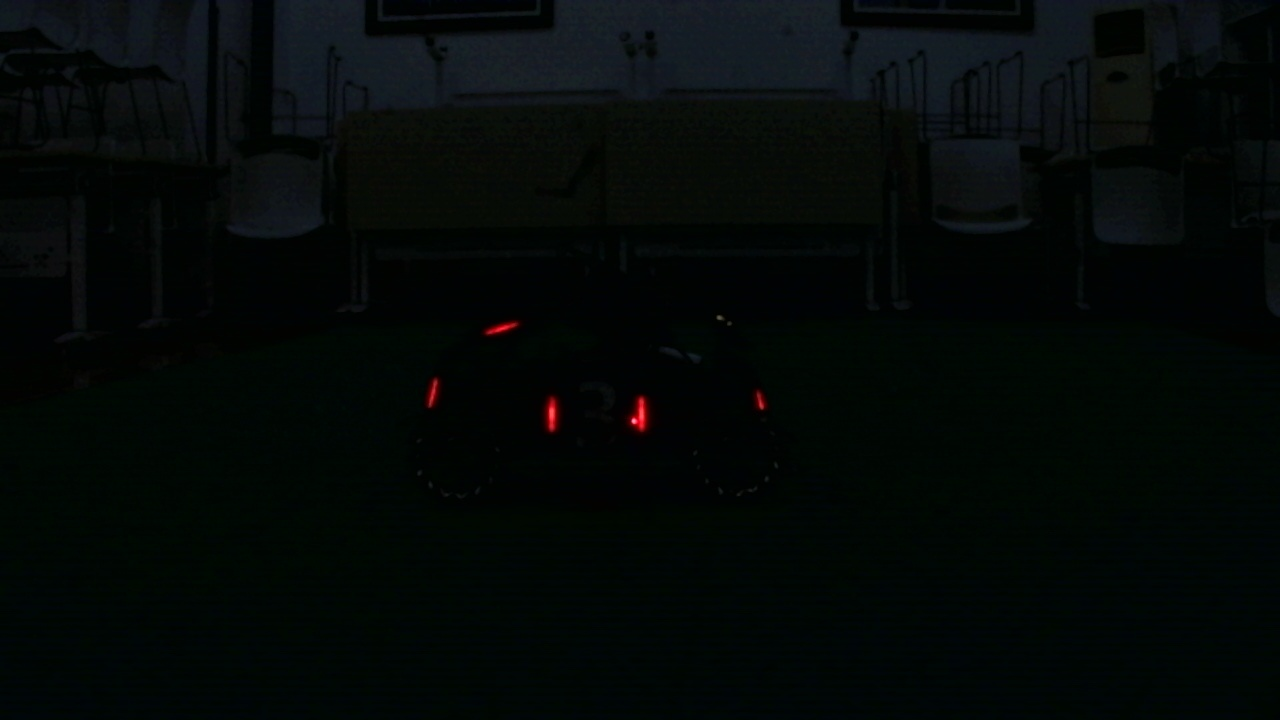lamp: (630, 398, 651, 434), (543, 393, 558, 433), (424, 374, 438, 407)
pair1: (545, 397, 647, 433)
